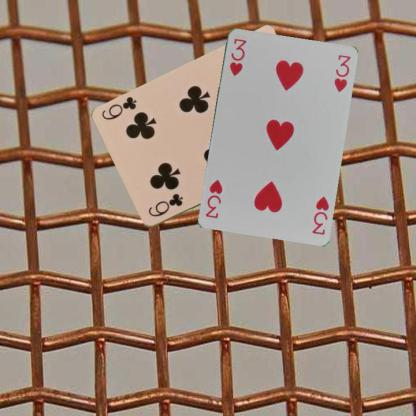3h: (309, 194, 331, 236), (226, 35, 247, 77)
6c: (145, 191, 184, 218)
